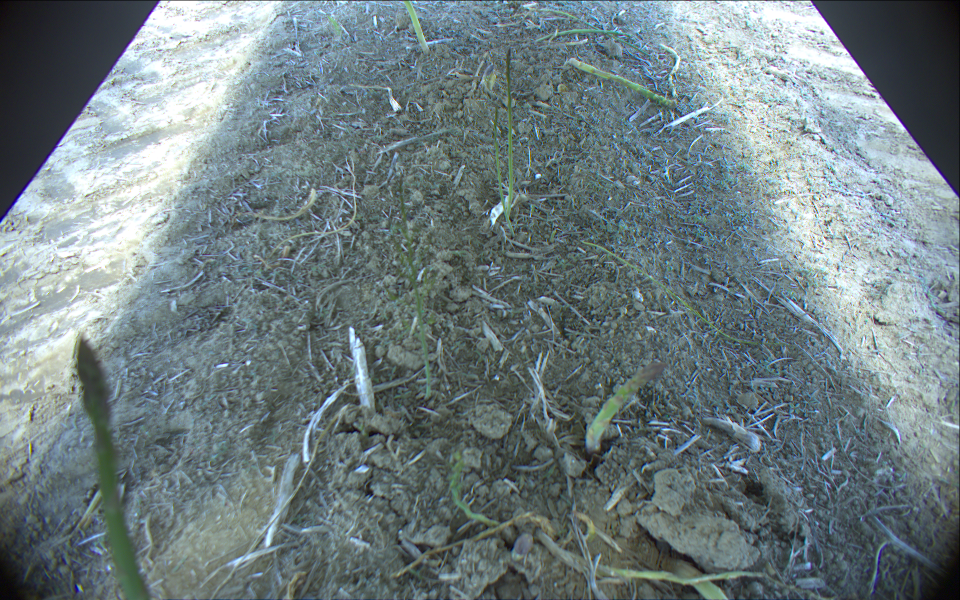aspa: (76, 337, 155, 600), (583, 240, 773, 347), (533, 533, 768, 582), (397, 174, 434, 404), (583, 359, 668, 452), (567, 56, 675, 108), (449, 448, 504, 530), (491, 106, 516, 233), (673, 562, 731, 600), (399, 1, 431, 53), (504, 48, 513, 221), (530, 29, 636, 43), (660, 42, 680, 100), (538, 7, 594, 27), (481, 63, 497, 93)
